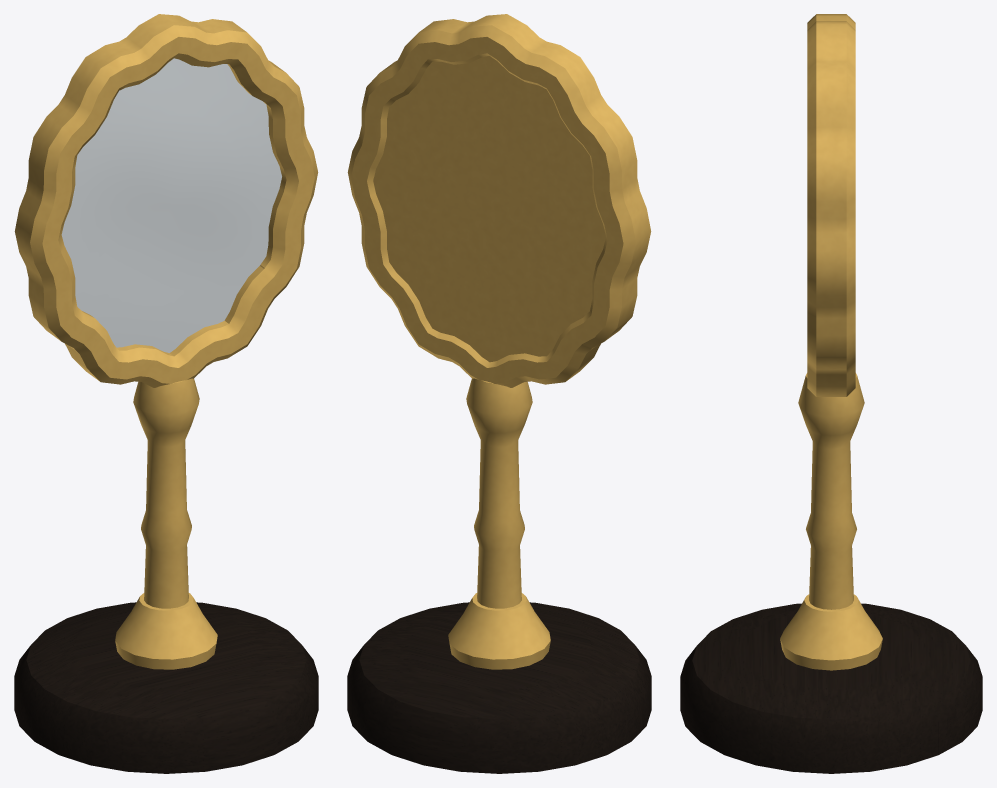
File: SM_FS_Mirror.glb
3 views of the same model, side by side, from view 1: azimuth 30°, elevation 25°; view 2: azimuth 150°, elevation 25°; view 3: azimuth 270°, elevation 25° (orthographic).
Parts seen in each view (by area): view 1: SM_FS_Mirror; view 2: SM_FS_Mirror; view 3: SM_FS_Mirror.
Boxes of the visible parts, left/top/right/bottom form: SM_FS_Mirror: left=14, top=14, right=318, bottom=773; SM_FS_Mirror: left=347, top=14, right=651, bottom=773; SM_FS_Mirror: left=680, top=14, right=982, bottom=773.
Size of the model in its own units: 0.1093 by 0.25 by 0.1.
1 material, 1 textured.
